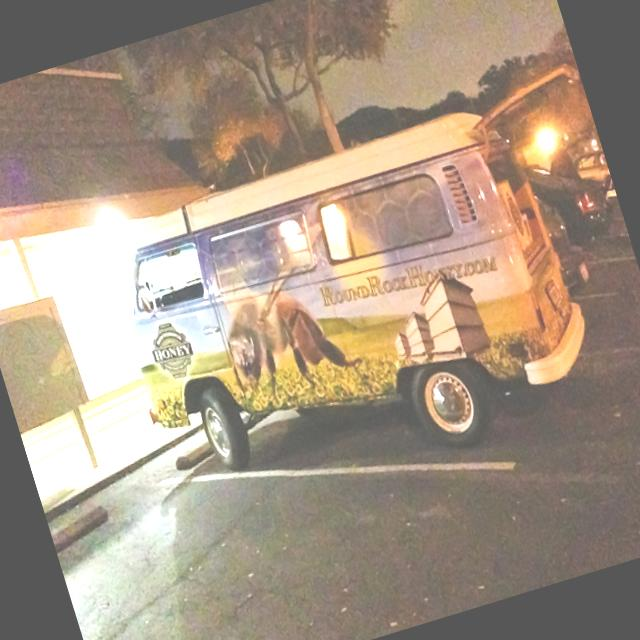Vehicle: (84, 59, 640, 532), (523, 144, 619, 254), (532, 184, 592, 295), (570, 148, 612, 191)
